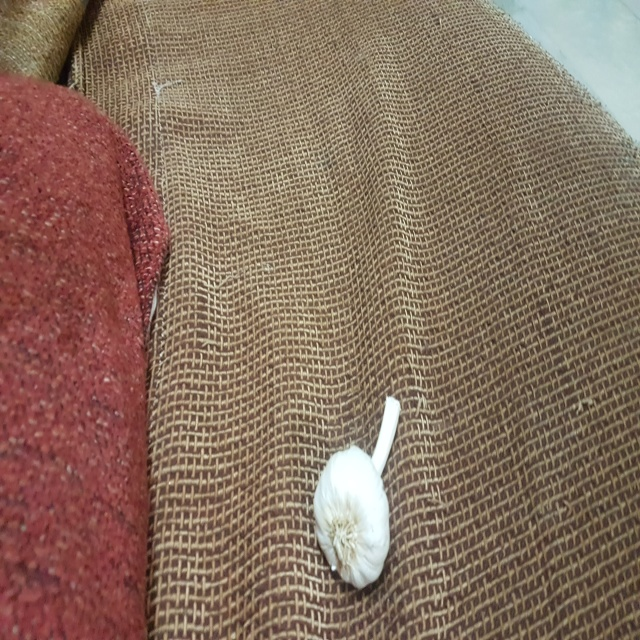garlic: (310, 395, 426, 592)
